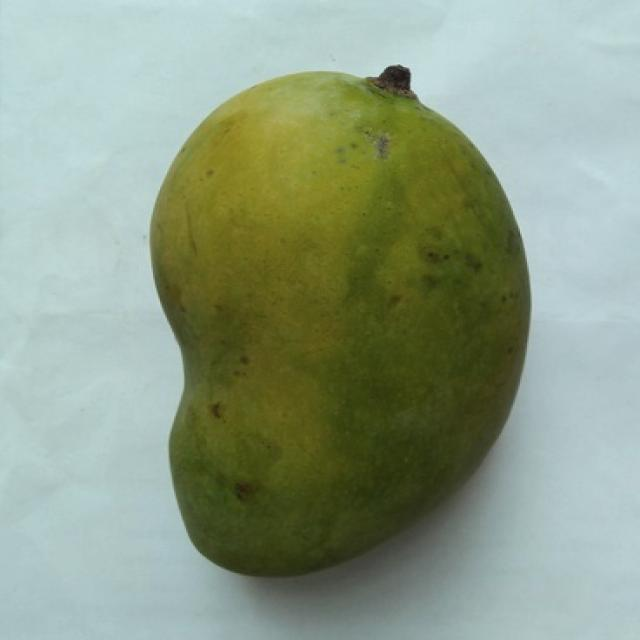Mango: (151, 71, 529, 576)
